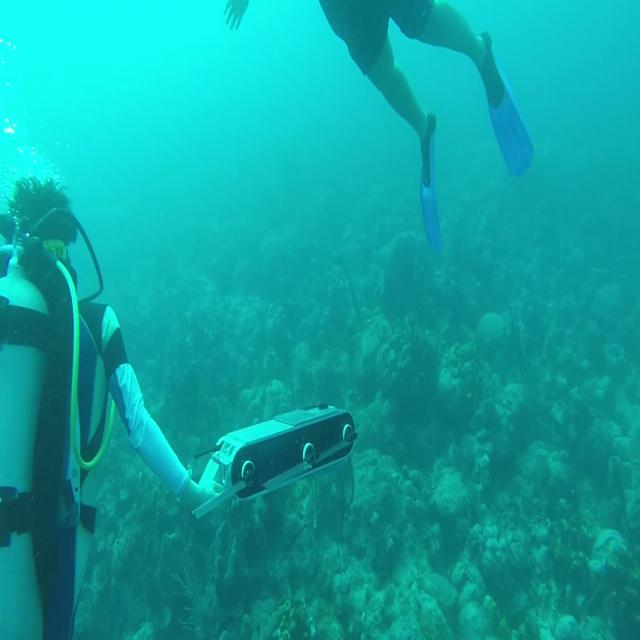human: (0, 172, 357, 638), (223, 0, 535, 254)
